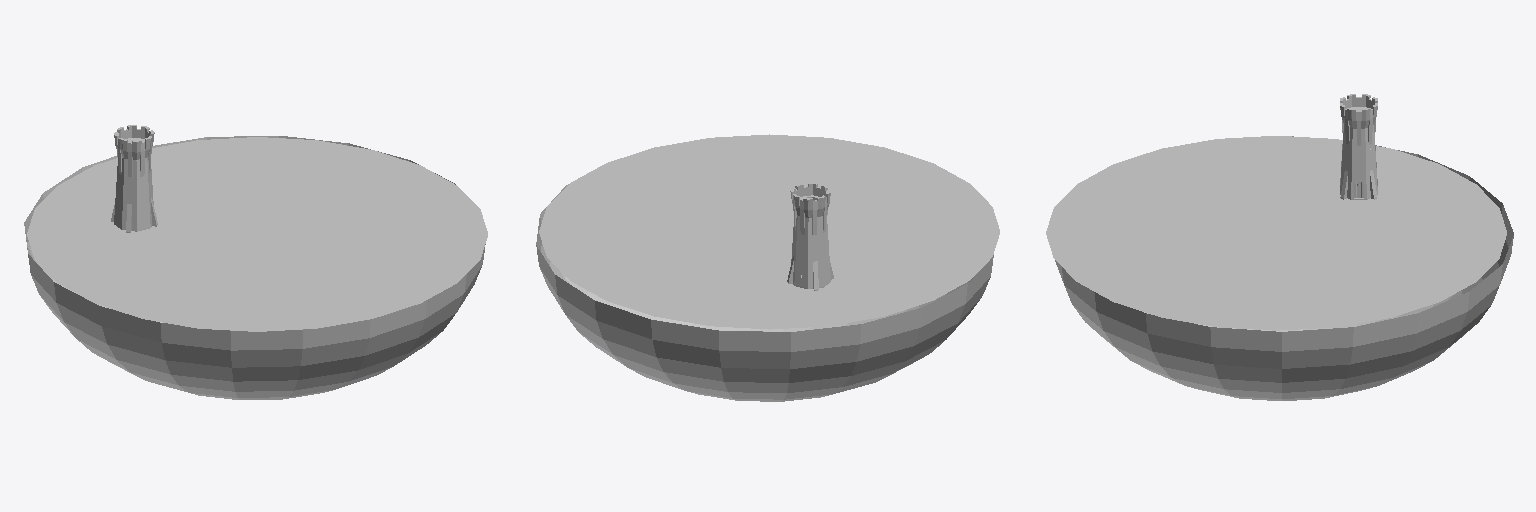
File: castillo.obj
The picture shows the model from 3 angles: view 1: azimuth 30°, elevation 25°; view 2: azimuth 150°, elevation 25°; view 3: azimuth 270°, elevation 25°; orthographic projection.
Parts seen in each view (by area): view 1: polySurface3; view 2: polySurface3; view 3: polySurface3.
Boxes of the visible parts, box(x1,y1,x2,y2) form: polySurface3: box(24, 125, 487, 399); polySurface3: box(536, 134, 999, 401); polySurface3: box(1046, 94, 1513, 400).
Size of the model in its own units: 1.11 by 0.6018 by 1.12.